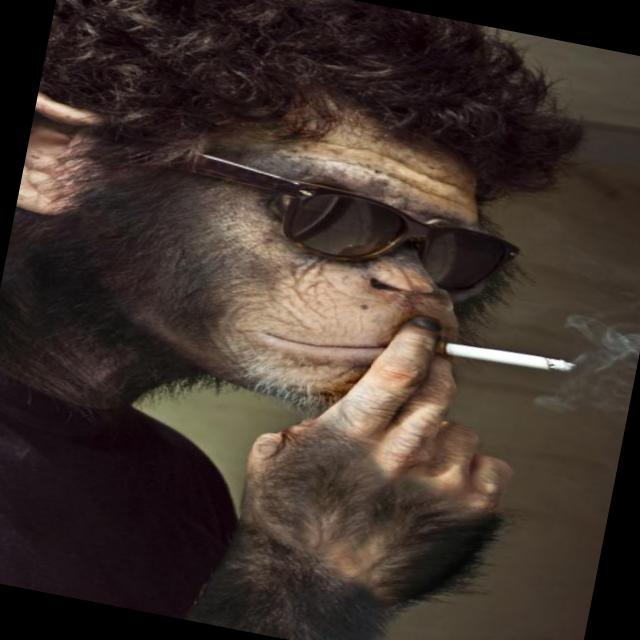smoke: (444, 336, 576, 376)
